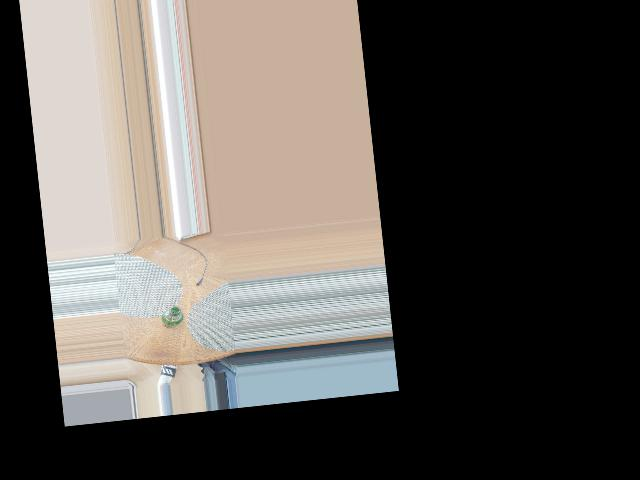beer: (159, 306, 184, 329)
